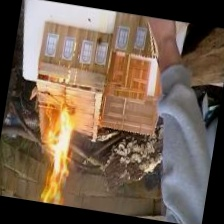fire: (22, 99, 90, 208)
